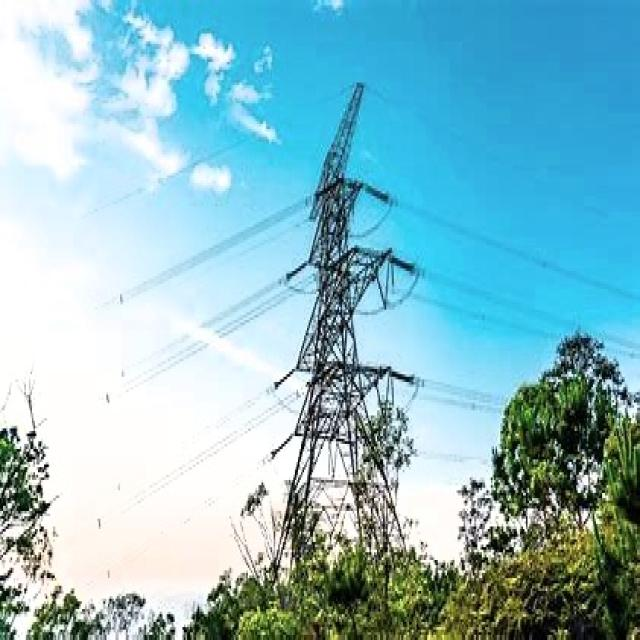utility poles: (504, 294, 610, 518), (332, 368, 429, 541)
